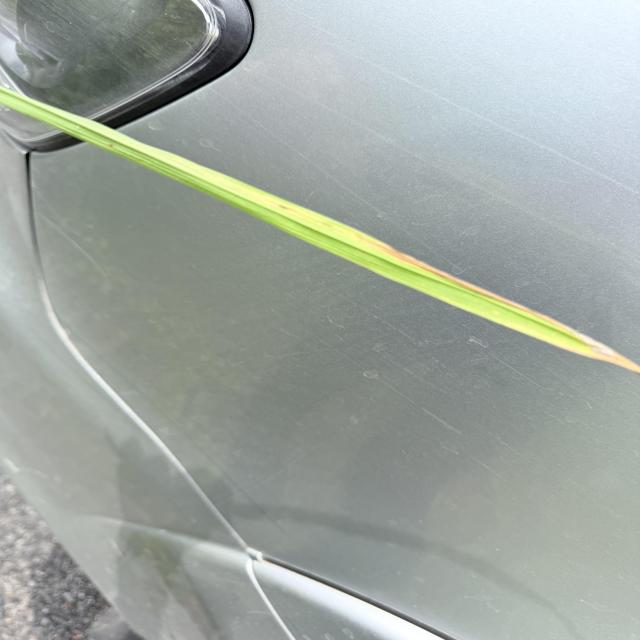Chay bia la: (350, 233, 640, 373)
